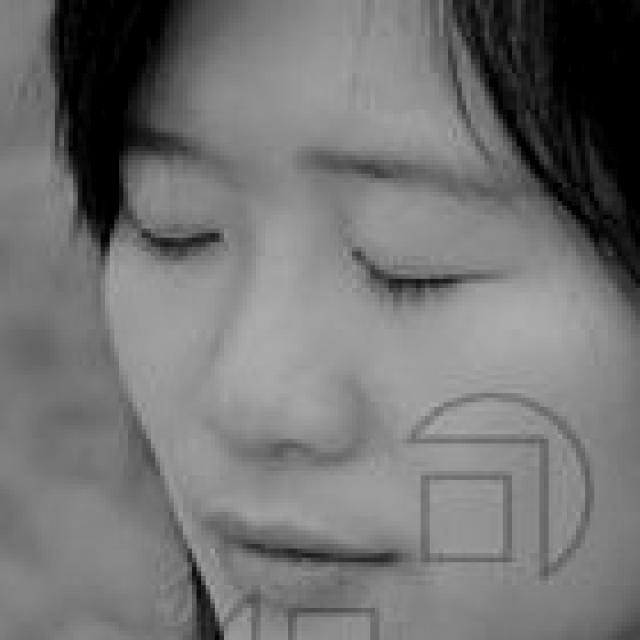real: (105, 0, 640, 640), (116, 195, 528, 318)
